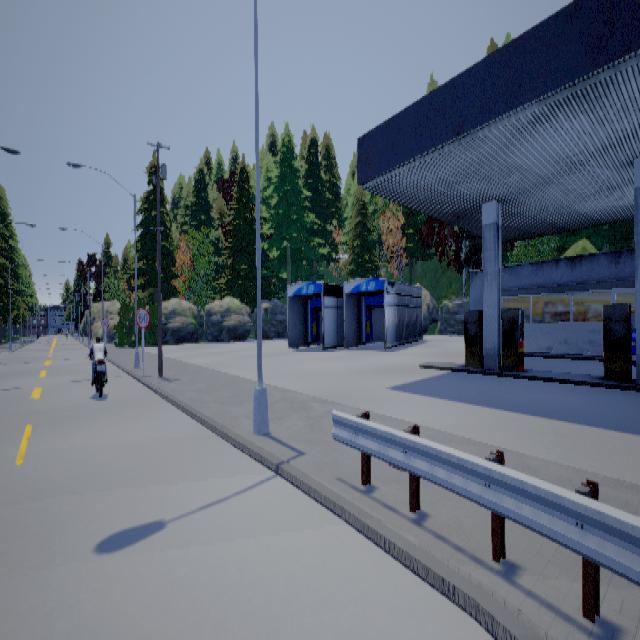bike: (86, 335, 110, 394)
traffic_sign: (135, 306, 149, 326), (100, 316, 108, 326)
